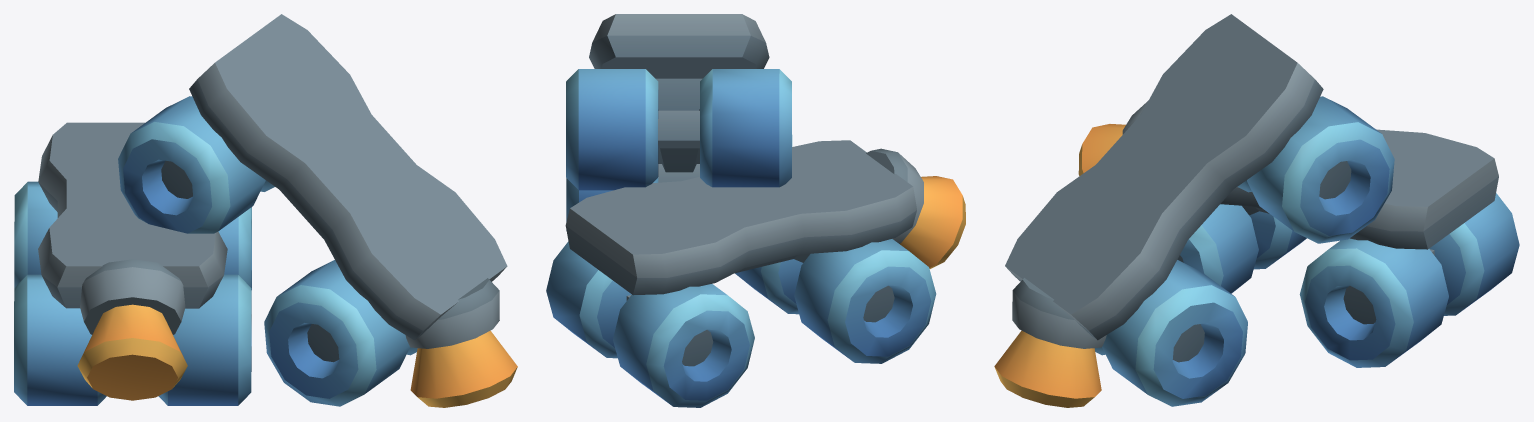
File: rollerskate_pair.fbx
3 views of the same model, side by side, from view 1: azimuth 30°, elevation 25°; view 2: azimuth 150°, elevation 25°; view 3: azimuth 270°, elevation 25° (orthographic). The views are drawn at different scales.
Visible parts, largest first — view 1: rollerskate_pair; view 2: rollerskate_pair; view 3: rollerskate_pair.
Boxes of the visible parts, box(x1,y1,x2,y2) form: rollerskate_pair: box(14, 14, 517, 407); rollerskate_pair: box(546, 14, 965, 407); rollerskate_pair: box(994, 14, 1519, 407).
Size of the model in its own units: 0.5561 by 0.3913 by 0.5975.
